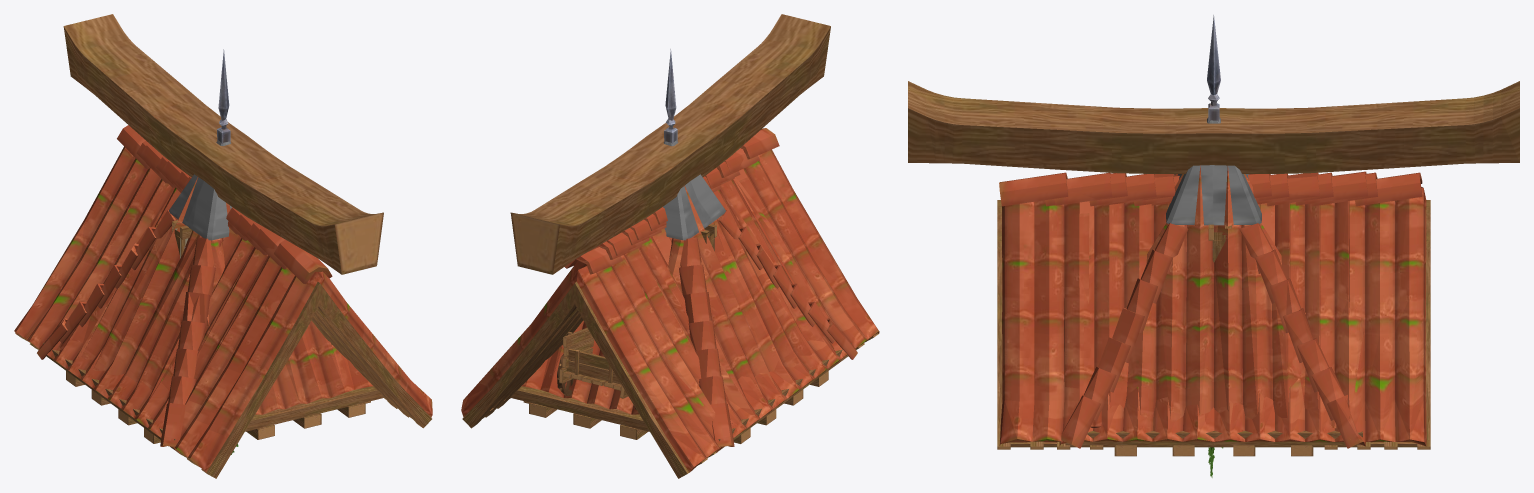
Rendered from village.glb.
The picture shows the model from 3 angles, left to right: view 1: azimuth 30°, elevation 25°; view 2: azimuth 150°, elevation 25°; view 3: azimuth 270°, elevation 25°; orthographic projection. The views are drawn at different scales.
Visible parts, largest first — view 1: Roof_RoundTiles_4x6, Roof_Tower_RoundTiles, Roof_Log, Roof_RoundTiles_4x4; view 2: Roof_RoundTiles_4x6, Roof_Tower_RoundTiles, Roof_Log, Roof_RoundTiles_4x4, Prop_Wagon; view 3: Roof_RoundTiles_4x6, Roof_Tower_RoundTiles, Roof_Log, Roof_RoundTiles_4x4.
Part boxes in pixels (x1=…): Roof_RoundTiles_4x6: x1=14, y1=125, x2=432, y2=478; Roof_Tower_RoundTiles: x1=37, y1=49, x2=384, y2=449; Roof_Log: x1=63, y1=14, x2=383, y2=274; Roof_RoundTiles_4x4: x1=47, y1=143, x2=397, y2=457; Roof_RoundTiles_4x6: x1=461, y1=128, x2=879, y2=478; Roof_Tower_RoundTiles: x1=510, y1=49, x2=857, y2=449; Roof_Log: x1=510, y1=14, x2=830, y2=274; Roof_RoundTiles_4x4: x1=497, y1=155, x2=847, y2=457; Prop_Wagon: x1=557, y1=328, x2=636, y2=409; Roof_RoundTiles_4x6: x1=997, y1=172, x2=1430, y2=449; Roof_Tower_RoundTiles: x1=1061, y1=15, x2=1363, y2=456; Roof_Log: x1=908, y1=81, x2=1519, y2=173; Roof_RoundTiles_4x4: x1=1054, y1=171, x2=1370, y2=449.
Bounding box in the file's own units: 5.65 × 8.91 × 10.7.
10 materials, 9 textured.
